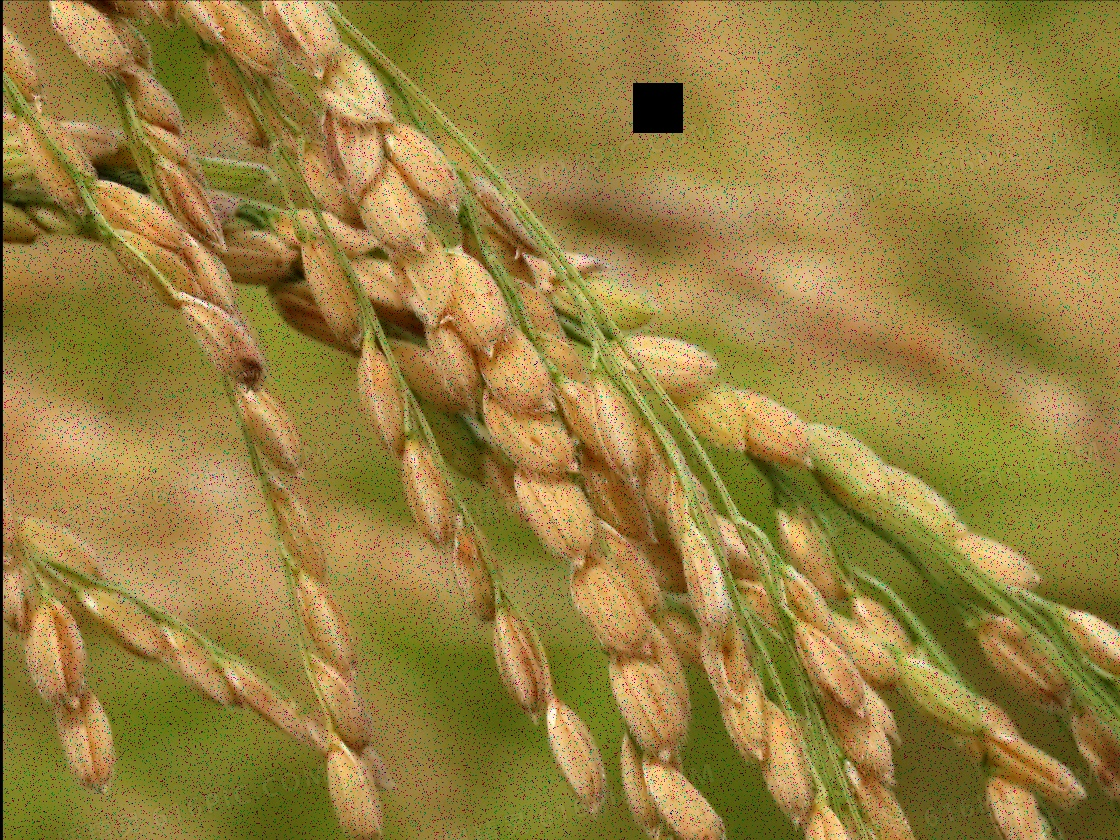rice: (3, 1, 1110, 838)
